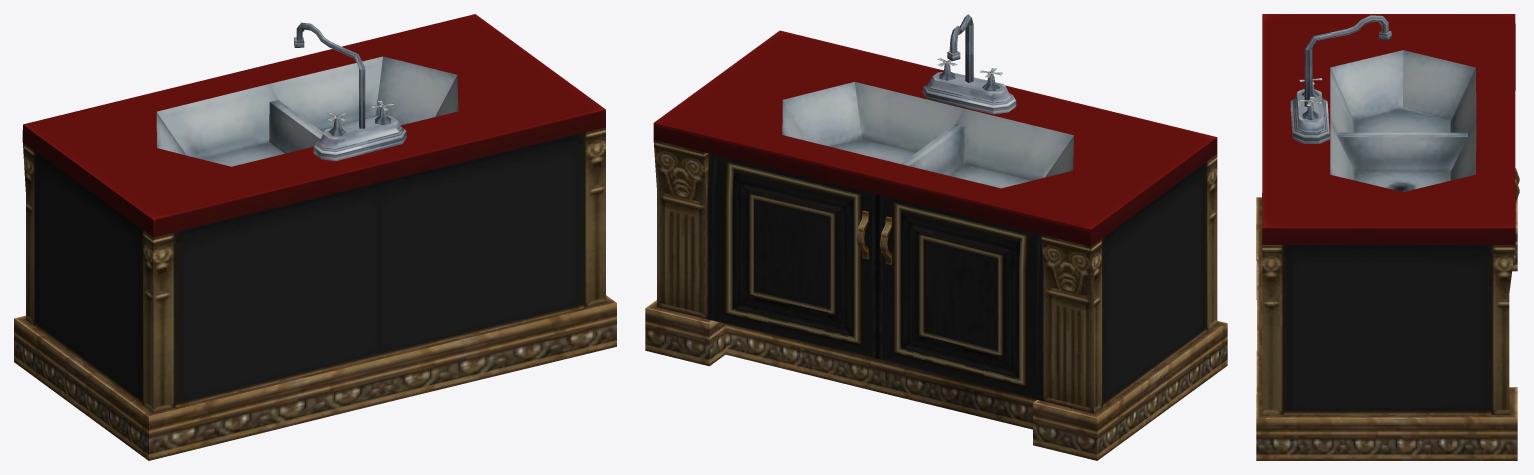
The model's file is furni_0200327.FBX.
3 renders of one model, left to right at view 1: azimuth 30°, elevation 25°; view 2: azimuth 150°, elevation 25°; view 3: azimuth 270°, elevation 25°, orthographic. The views are drawn at different scales.
Parts seen in each view (by area): view 1: furni_0200327; view 2: furni_0200327; view 3: furni_0200327.
Part boxes in pixels (x1,y1,x2,y2): furni_0200327: [14, 14, 616, 460]; furni_0200327: [645, 14, 1227, 460]; furni_0200327: [1256, 14, 1519, 460].
Bounding box in the file's own units: 165 × 115 × 83.25.
Materials: 1 (1 with a texture image).
